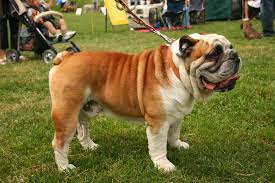Bulldog: (34, 25, 246, 177)
